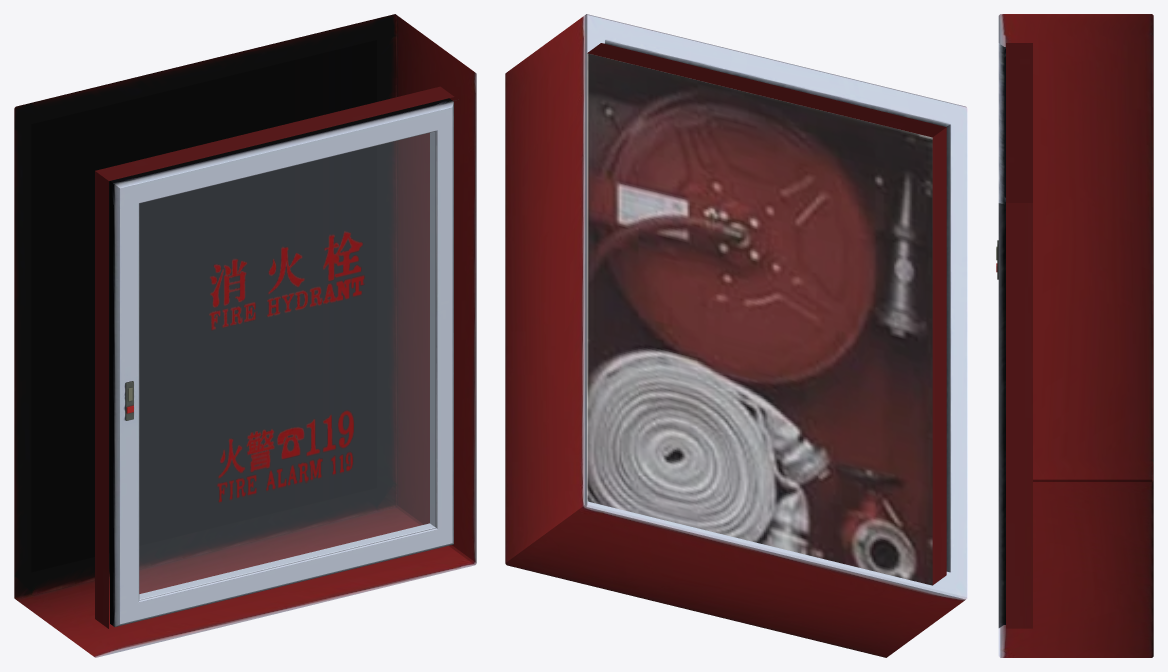
3 renders of one model, left to right at view 1: azimuth 30°, elevation 25°; view 2: azimuth 150°, elevation 25°; view 3: azimuth 270°, elevation 25°, orthographic. The views are drawn at different scales.
Parts seen in each view (by area): view 1: Box002, Box001; view 2: Box002; view 3: Box002, Box001.
Part boxes in pixels (x1,y1,x2,y2): Box002: [14, 14, 476, 657]; Box001: [110, 98, 453, 626]; Box002: [505, 14, 967, 657]; Box002: [998, 14, 1153, 657]; Box001: [996, 47, 1005, 624].
Bounding box in the file's own units: 0.65 × 0.8 × 0.2439.
3 materials, 2 textured.
